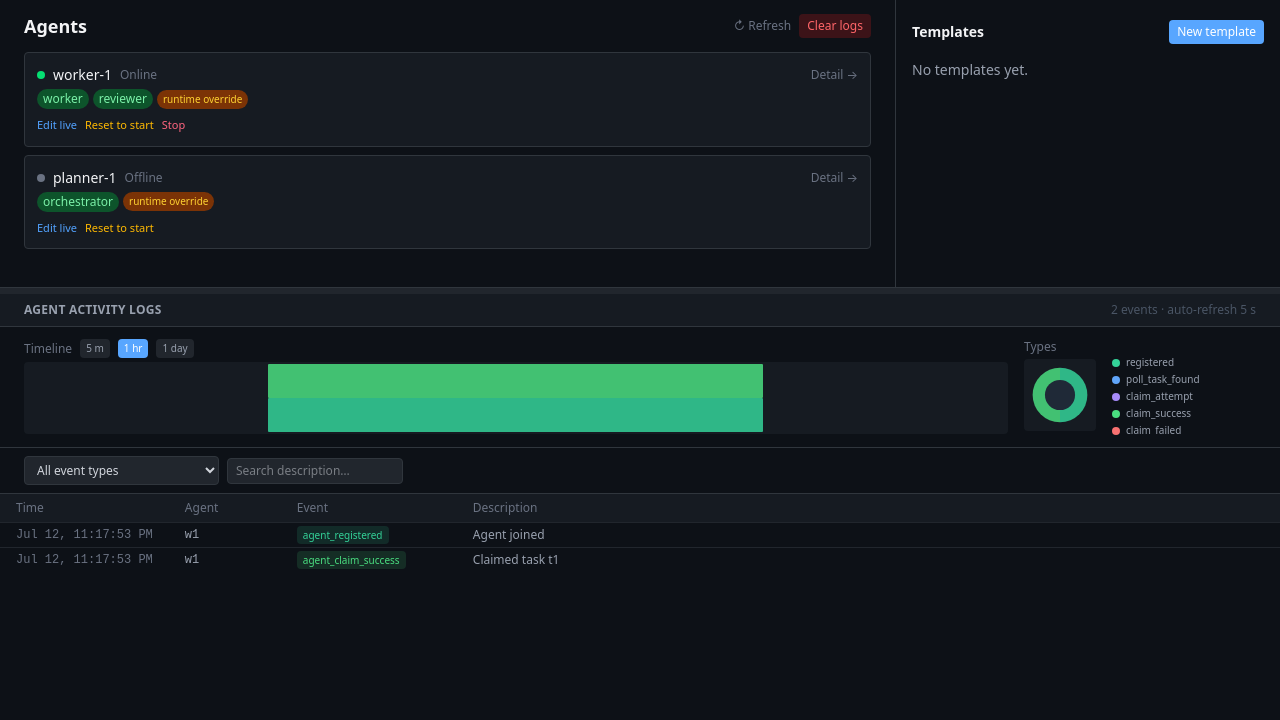
Test: Agents — agent selection › clears filter on × Clear click
Click the text "worker-1" at (82, 75), box [53,65,112,85]
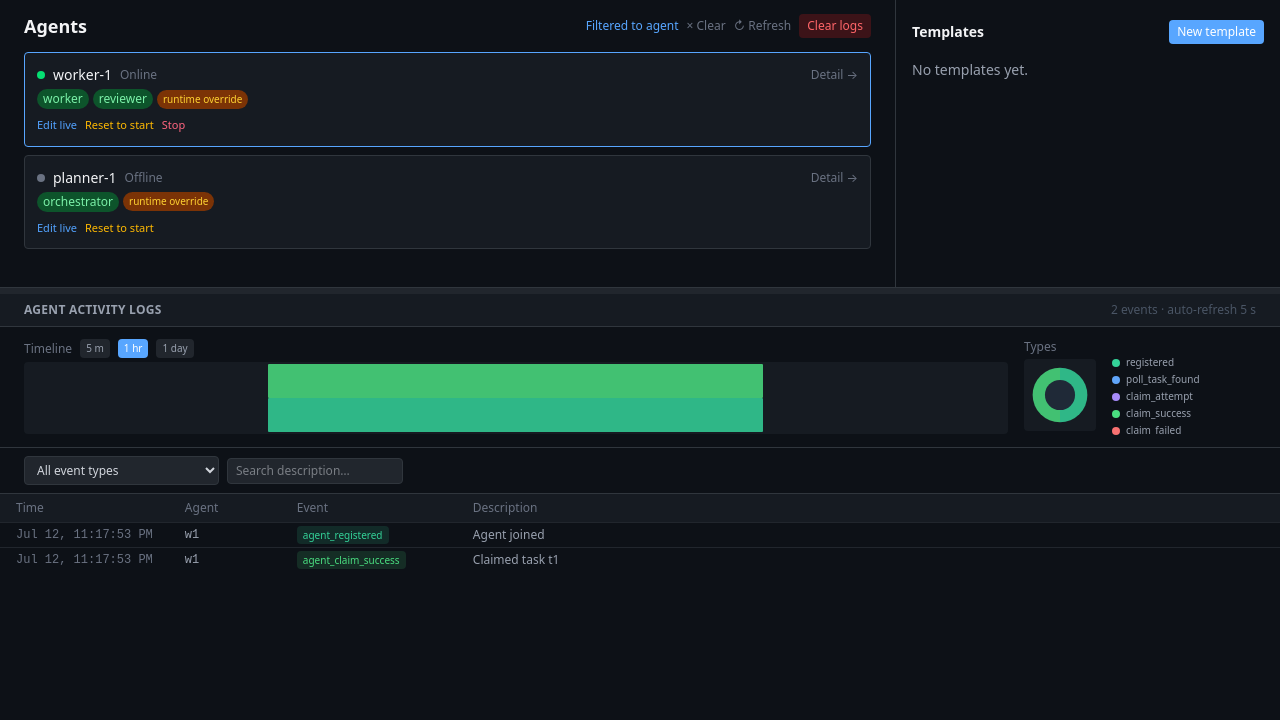
Now the button "× Clear" is shown
Click the button "× Clear" at (706, 26), box [686,18,726,34]
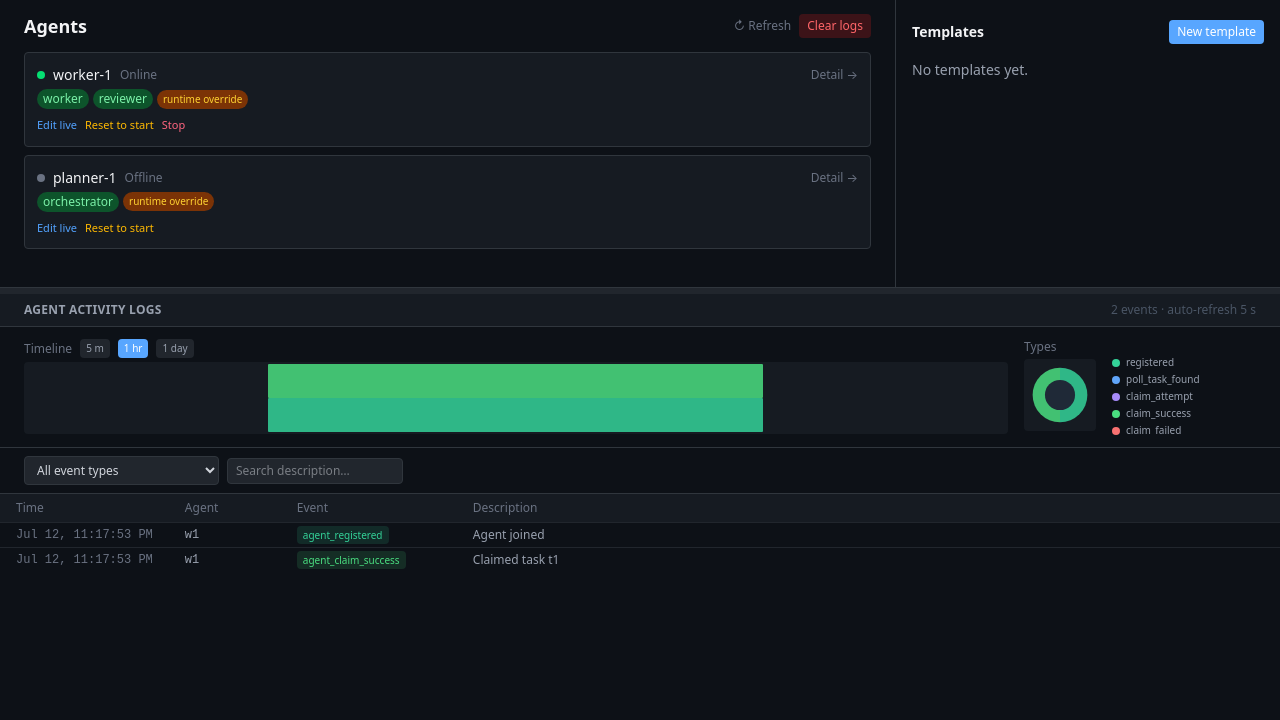
Now the text "Filtered to agent" is gone
